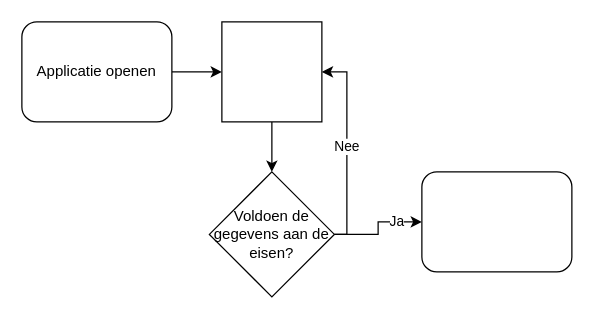
The diagram is 594 pixels wide and 319 high, and some of its shapes have lost their labels. Each missing label, with the centre of its shape:
"Gebruiker is geregistreerd" goes at (496,221).
"Gebruiker voert gegevens in" goes at (271,71).
